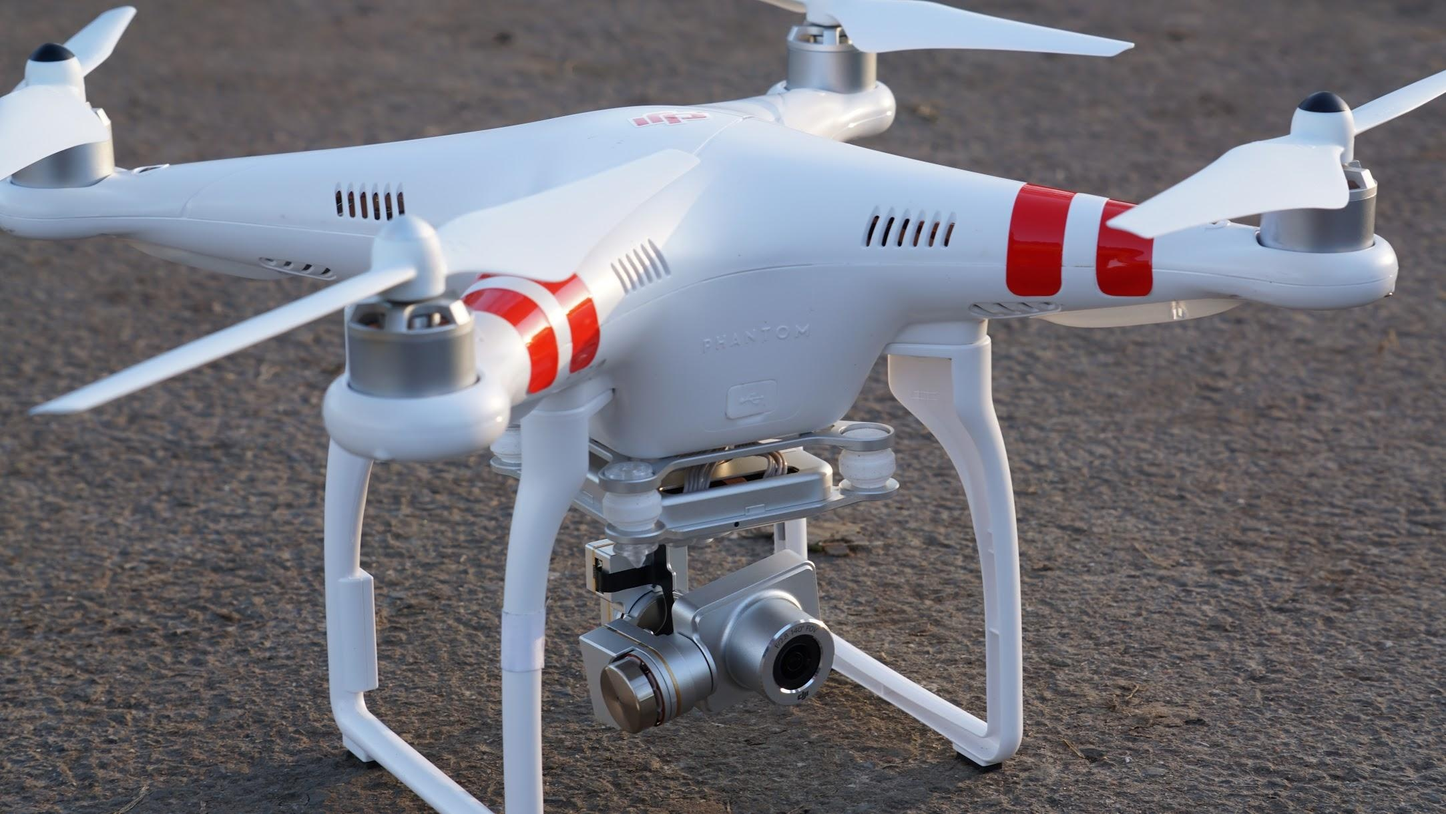aircraft: (1, 1, 1433, 787)
